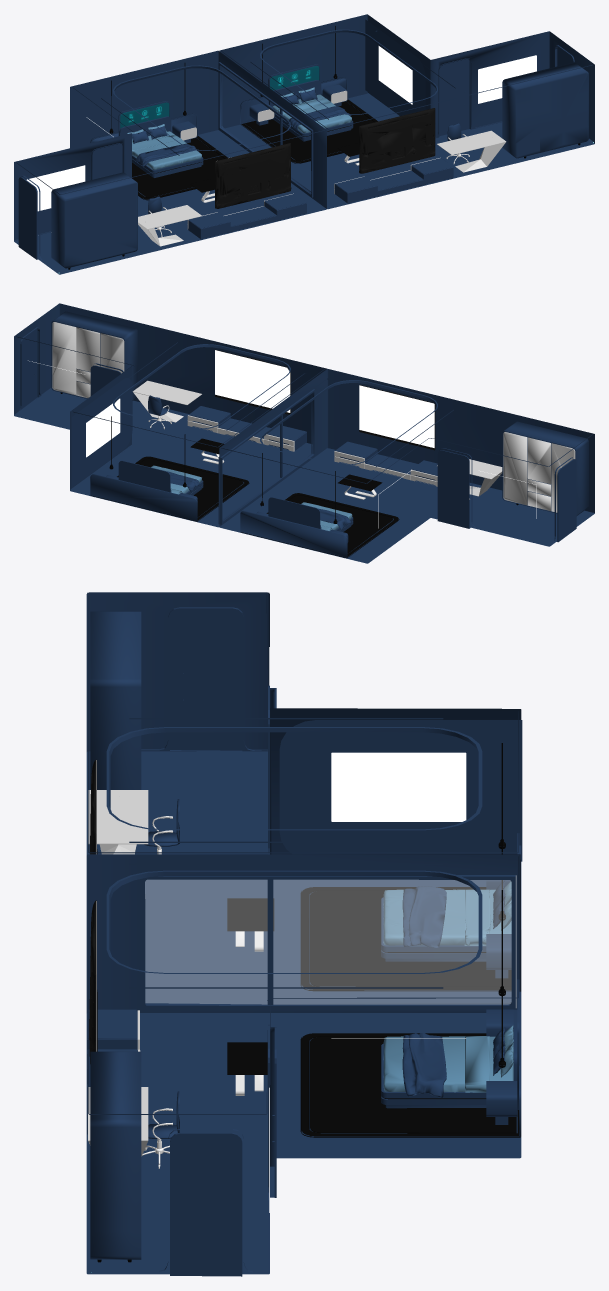
The model's file is Room__optimized.glb.
The picture shows the model from 3 angles, top to bottom: view 1: azimuth 30°, elevation 25°; view 2: azimuth 150°, elevation 25°; view 3: azimuth 270°, elevation 25°; orthographic projection. The views are drawn at different scales.
Parts seen in each view (by area): view 1: NightTable_02, Room_Screen, Bed_Head_Light; view 2: NightTable_02, Room_Screen; view 3: NightTable_02, Window, Room_Screen.
Part boxes in pixels (x1,y1,x2,y2): NightTable_02: (14,14,594,274); Room_Screen: (26,46,536,211); Bed_Head_Light: (120,66,319,128); NightTable_02: (14,303,594,563); Room_Screen: (28,350,536,528); NightTable_02: (86,592,522,1276); Window: (145,875,516,1007); Room_Screen: (96,647,466,1212).
Bounding box in the file's own units: 22.85 × 3.36 × 7.98.
6 materials, 5 textured.
